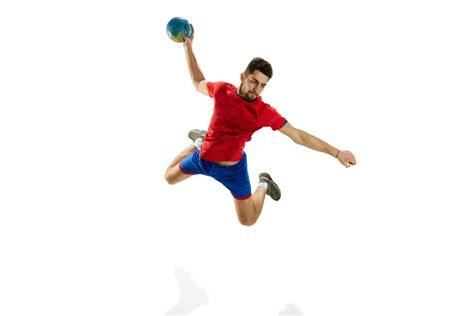ballon_handball: (164, 15, 194, 45)
